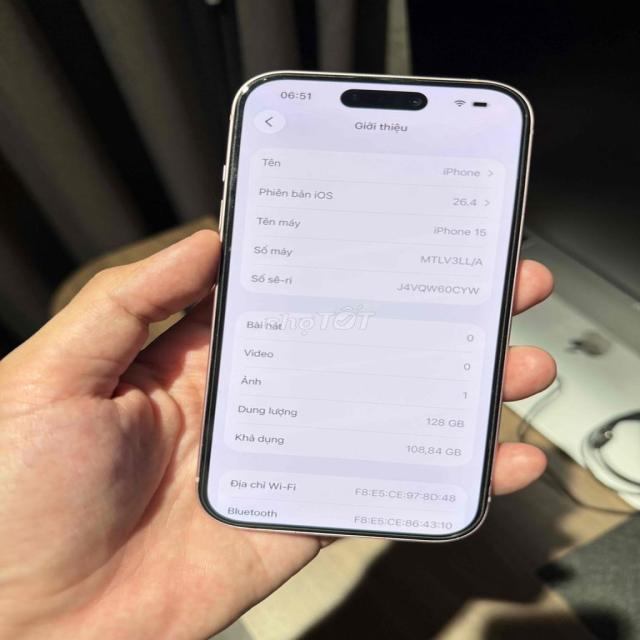gen_15: (192, 63, 537, 544)
